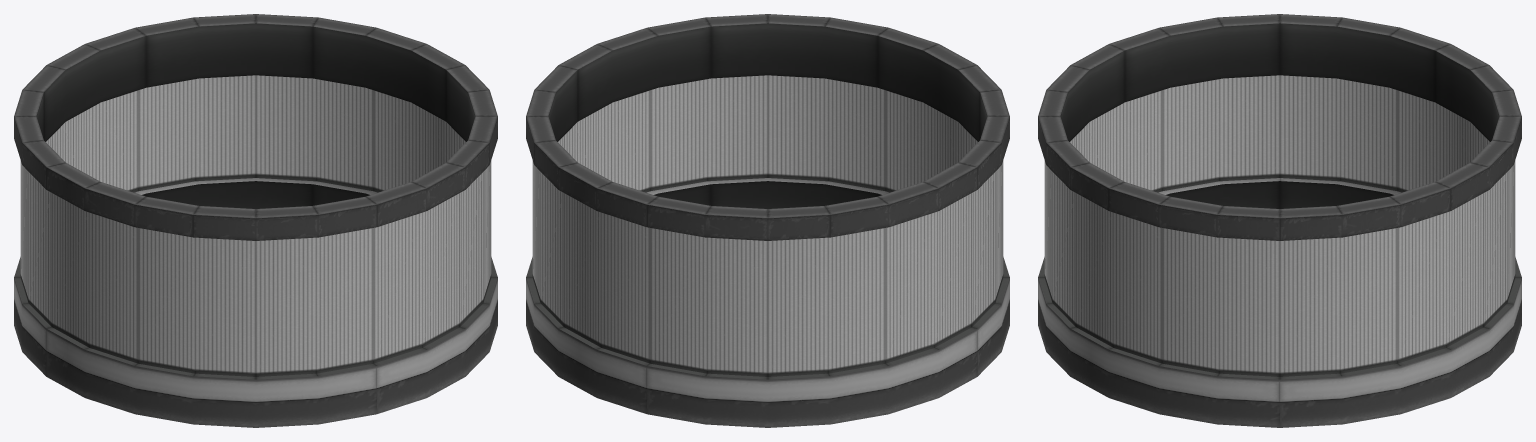
Rendered from FatTank.dae.
3 renders of one model, left to right at view 1: azimuth 30°, elevation 25°; view 2: azimuth 150°, elevation 25°; view 3: azimuth 270°, elevation 25°, orthographic.
Visible parts, largest first — view 1: UpperStageFat; view 2: UpperStageFat; view 3: UpperStageFat.
Boxes of the visible parts, <box> form: UpperStageFat: <box>14,14,497,427</box>; UpperStageFat: <box>526,14,1009,427</box>; UpperStageFat: <box>1038,14,1521,427</box>.
Size of the model in its own units: 2.5 by 1.19 by 2.5.
